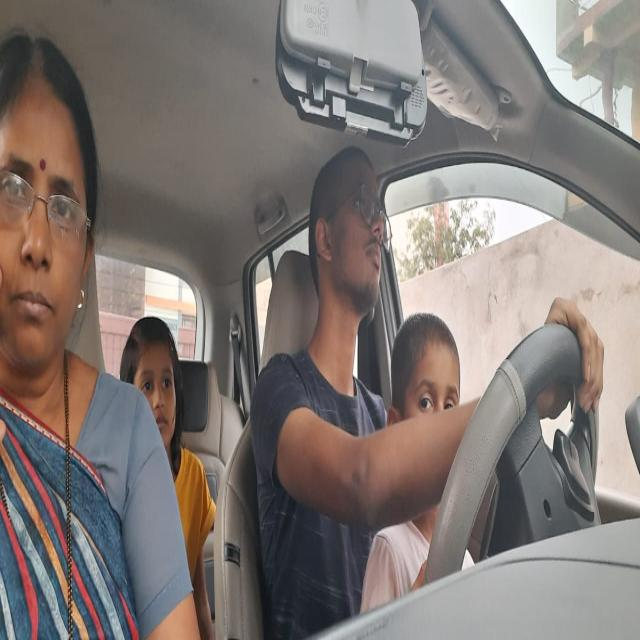child: (396, 321, 465, 416)
person: (0, 38, 95, 374), (308, 152, 392, 316), (122, 310, 183, 456)
